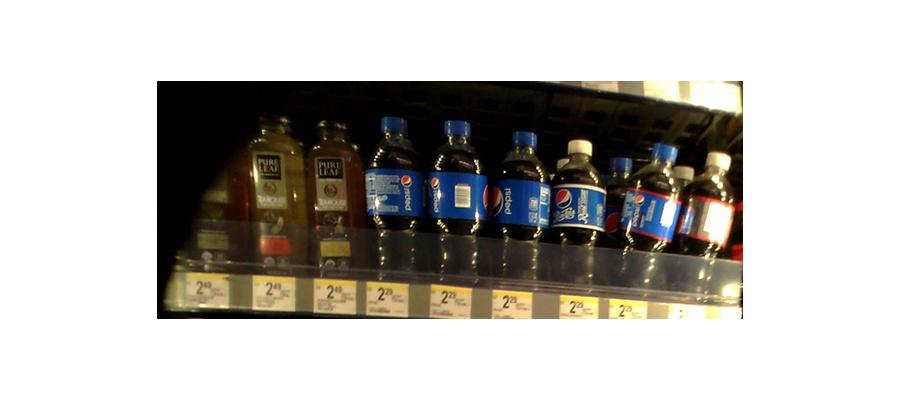bottle: (677, 143, 737, 306), (428, 117, 486, 284), (249, 104, 306, 273), (365, 113, 423, 279), (617, 137, 677, 295), (489, 129, 546, 283), (309, 112, 360, 277), (550, 137, 606, 284), (182, 137, 236, 275)
